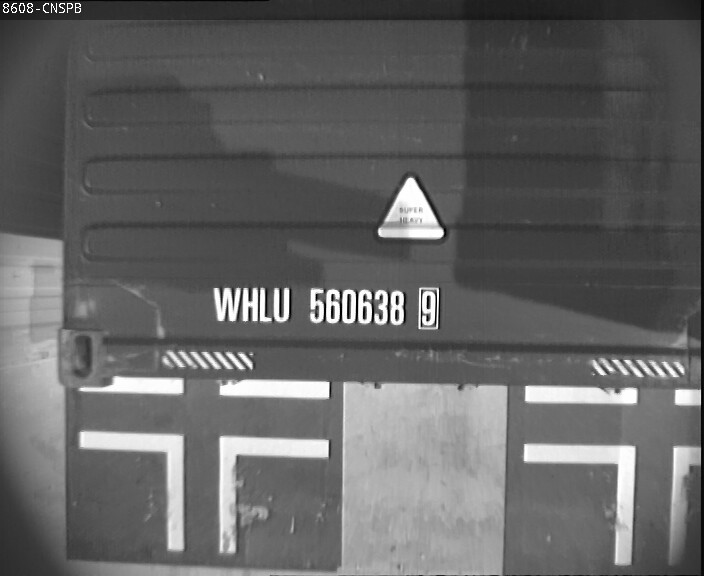groundmarker_1: (79, 426, 330, 552), (525, 442, 704, 563)
